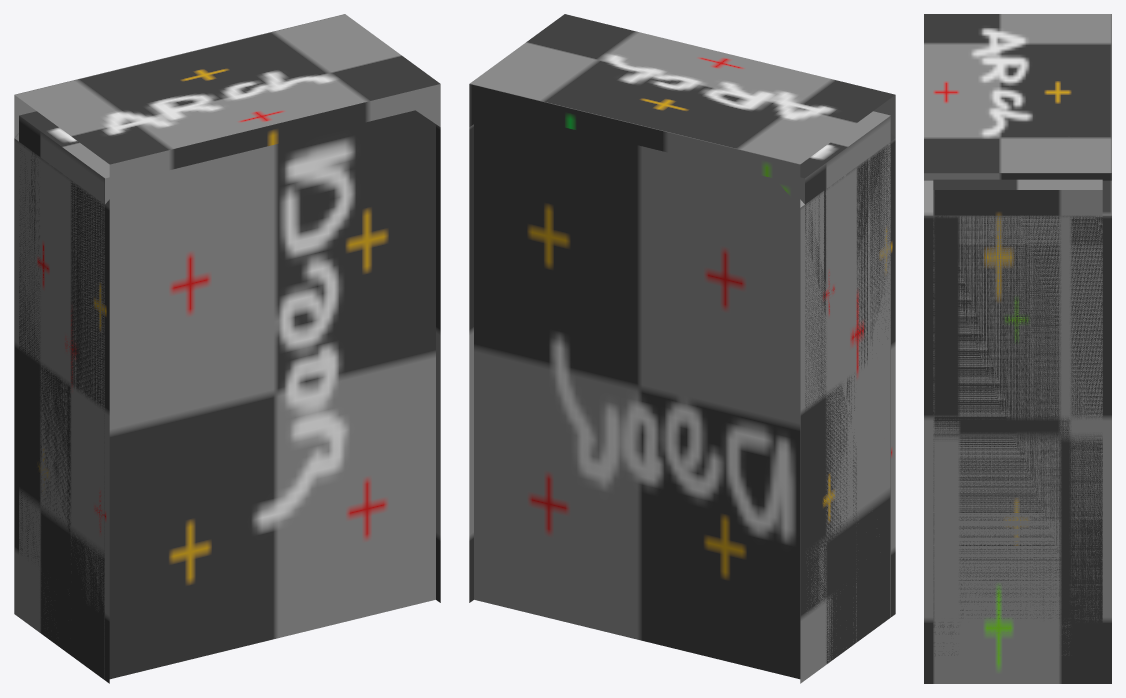
Rendered from Door1x2x3Test.fbx.
3 renders of one model, left to right at view 1: azimuth 30°, elevation 25°; view 2: azimuth 150°, elevation 25°; view 3: azimuth 270°, elevation 25°, orthographic.
Parts seen in each view (by area): view 1: SubDoor, Door1x2x3_test; view 2: SubDoor, Door1x2x3_test; view 3: Door1x2x3_test, SubDoor.
Part boxes in pixels (bbox=[...]): SubDoor: bbox=[19, 110, 435, 679]; Door1x2x3_test: bbox=[14, 14, 440, 683]; SubDoor: bbox=[474, 110, 890, 679]; Door1x2x3_test: bbox=[469, 14, 895, 683]; Door1x2x3_test: bbox=[924, 14, 1111, 683]; SubDoor: bbox=[933, 179, 1102, 683].
Size of the model in its own units: 2 by 1 by 3.
Materials: 2 (2 with a texture image).
